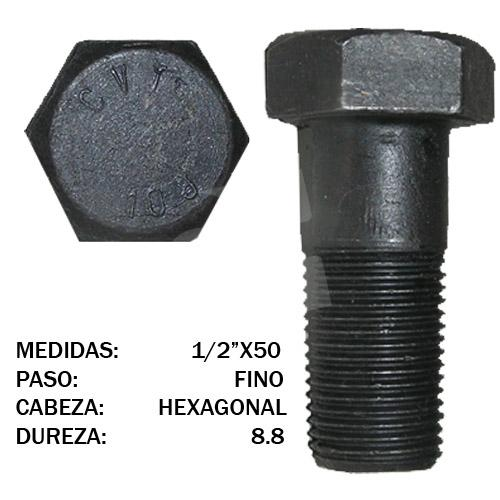Tornillo: (261, 27, 498, 475), (20, 35, 253, 247)
